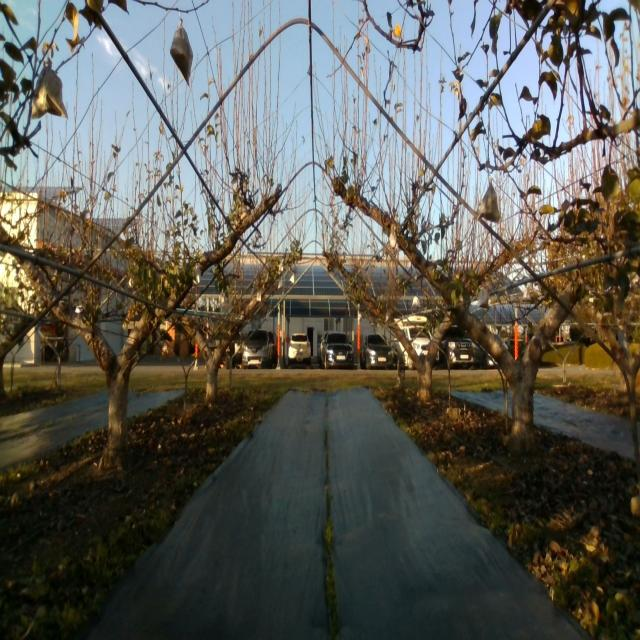pearbags: (32, 65, 68, 118), (170, 25, 193, 87), (478, 185, 501, 224), (478, 287, 490, 309)
